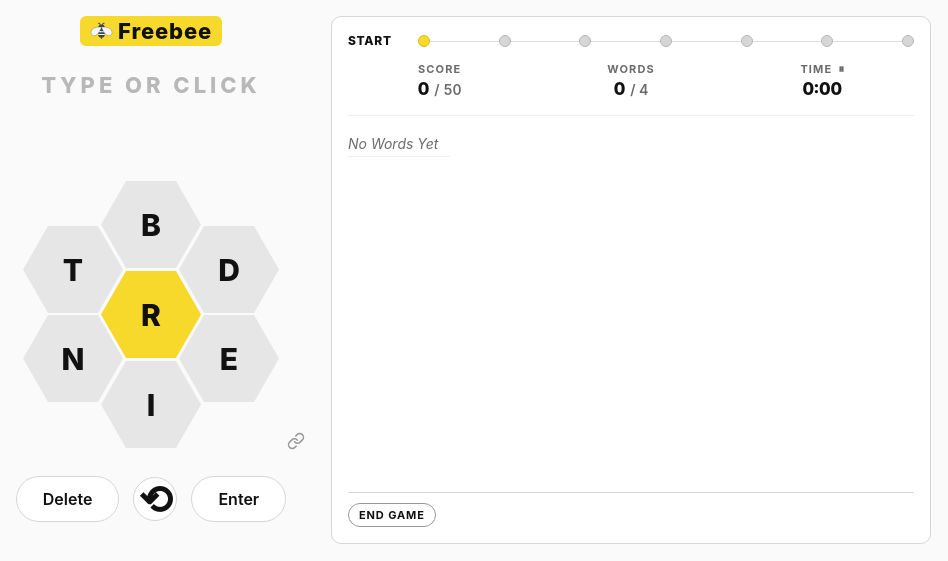
Test: Game interactions › Shuffle button keeps the same 6 outer letters
The image size is (948, 561).
Click the button named "Shuffle". click: (155, 499)
box: [133,477,177,521]
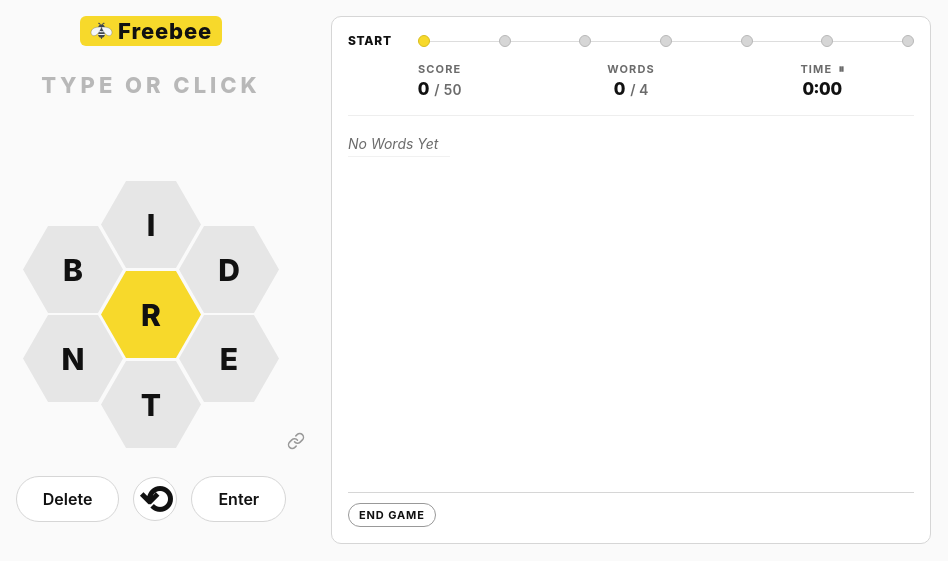
Check: the text "B" is shown, box [63,252,83,288]
Check: the text "I" is shown, box [147,206,155,242]
Check: the text "T" is shown, box [141,386,161,422]
